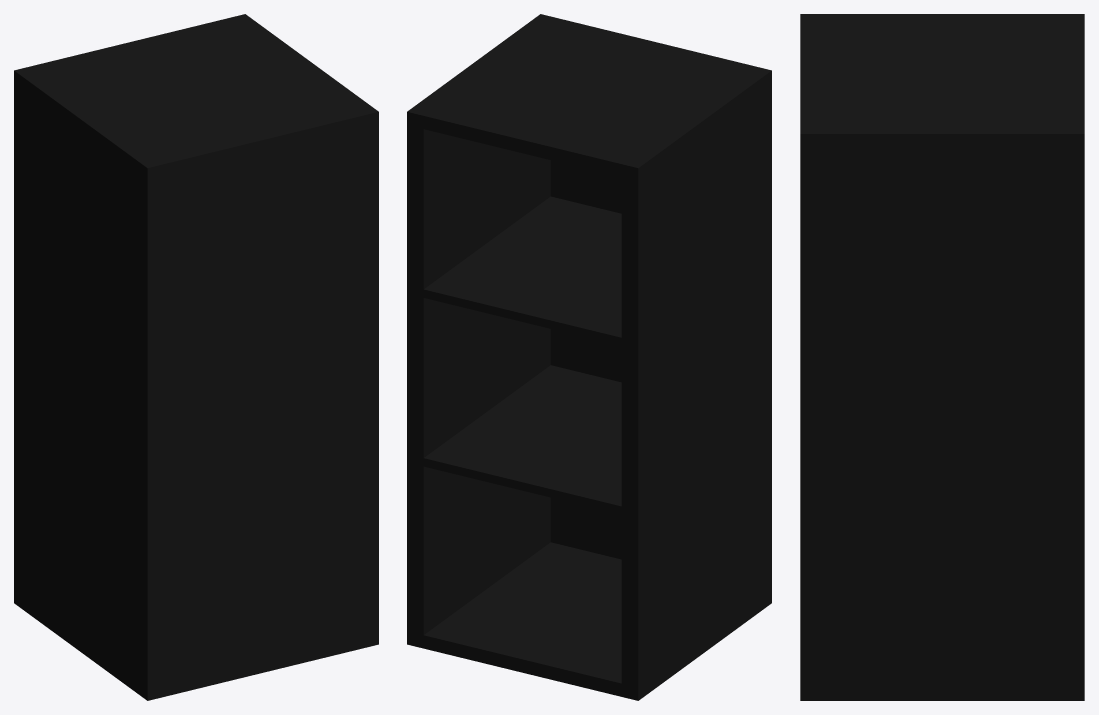
File: refri_3.obj
3 views of the same model, side by side, from view 1: azimuth 30°, elevation 25°; view 2: azimuth 150°, elevation 25°; view 3: azimuth 270°, elevation 25° (orthographic). The views are drawn at different scales.
Visible parts, largest first — view 1: Cubo.005_Cubo.008; view 2: Cubo.005_Cubo.008; view 3: Cubo.005_Cubo.008.
Boxes of the visible parts, left/top/right/bottom form: Cubo.005_Cubo.008: left=14, top=14, right=378, bottom=700; Cubo.005_Cubo.008: left=407, top=14, right=771, bottom=700; Cubo.005_Cubo.008: left=800, top=14, right=1084, bottom=700.
Bounding box in the file's own units: 1 × 2.2 × 1.
